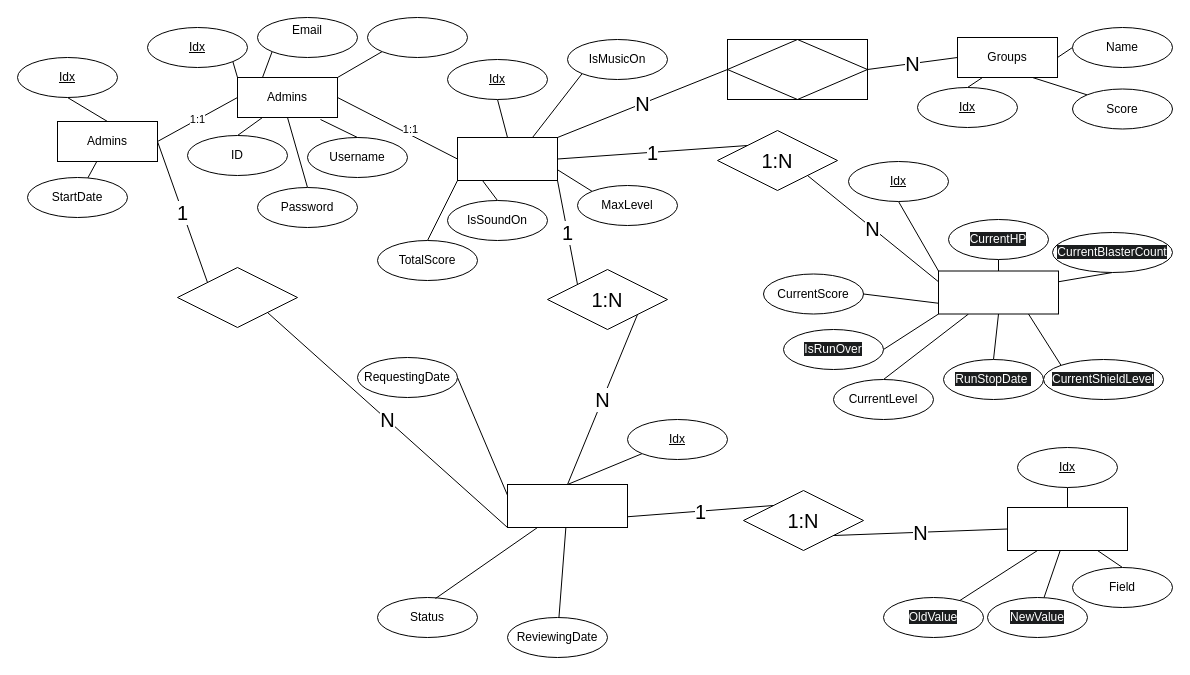
Some shapes in this 1190 by 675 pixel diagram are drawn without their labels. Here are the shapes that lost their labels. From the top down, the centre of each, then its label:
At point (417, 37): "Birthday".
At point (797, 69): "N:N".
At point (507, 158): "Players".
At point (237, 297): "מנהל אחראי לפנייה".
At point (998, 292): "Runs Info".
At point (567, 506): "ProfileEditRequests".
At point (1067, 528): "RequestingData".
